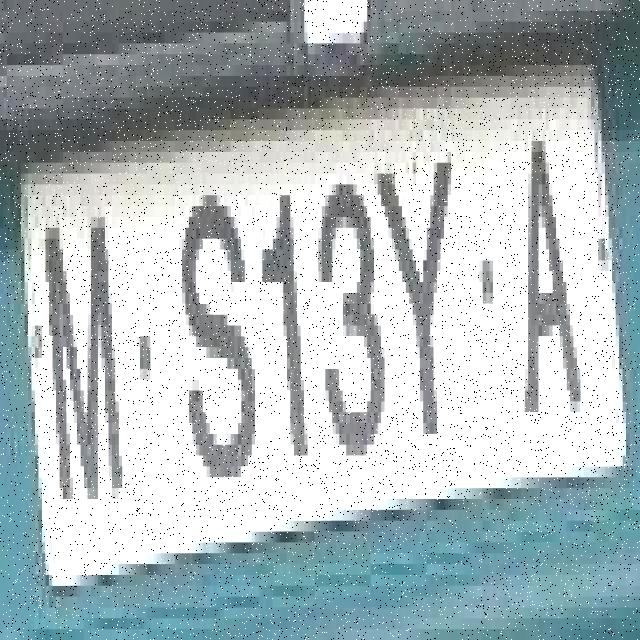licenseplate: (16, 72, 634, 592)
